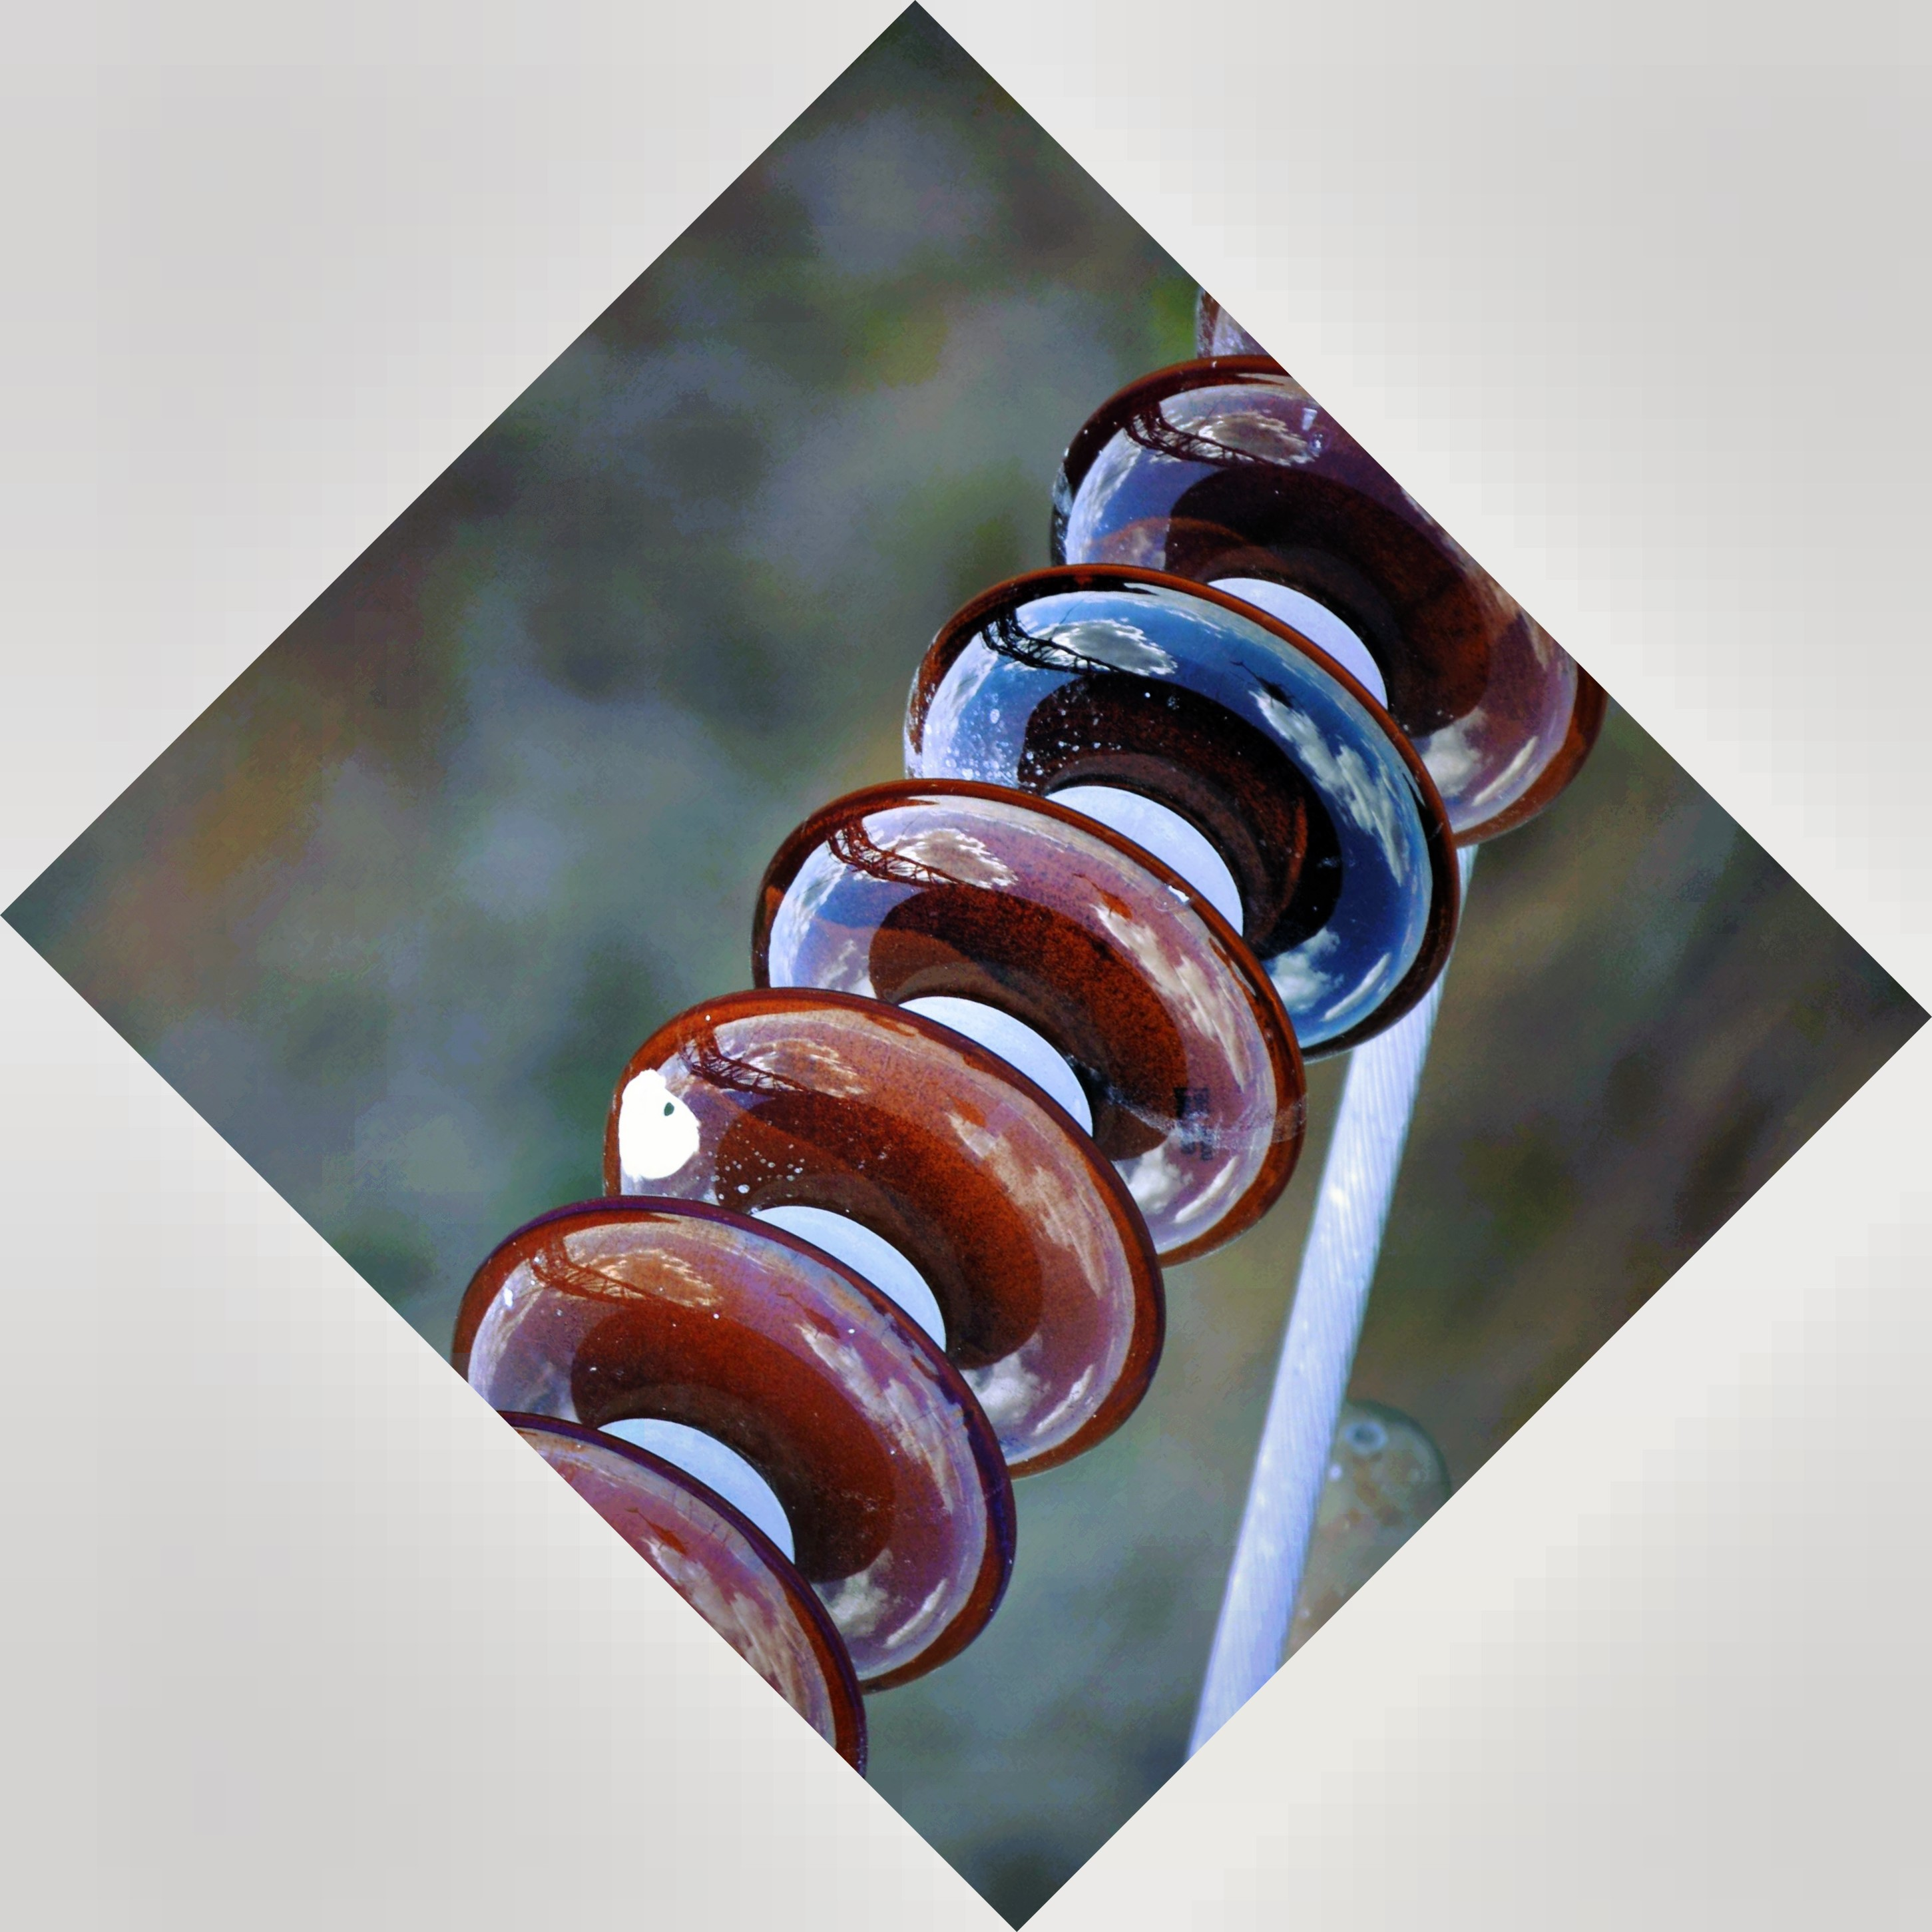insulator breakage: (573, 975, 1180, 1458)
